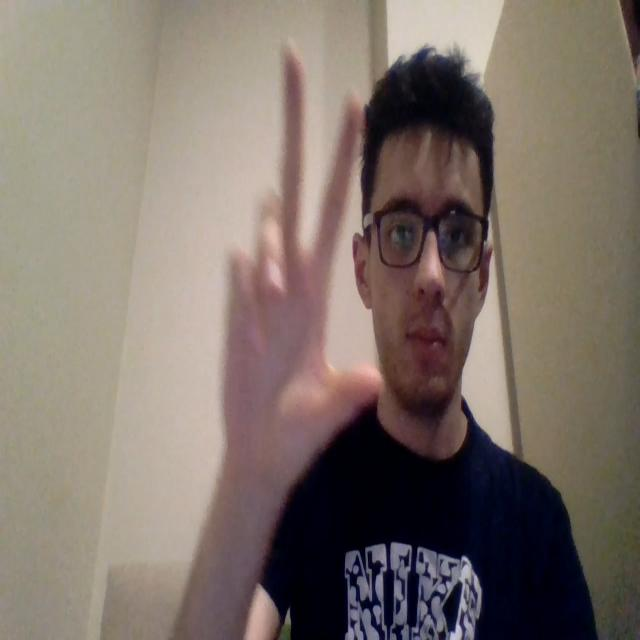no: (209, 37, 385, 500)
